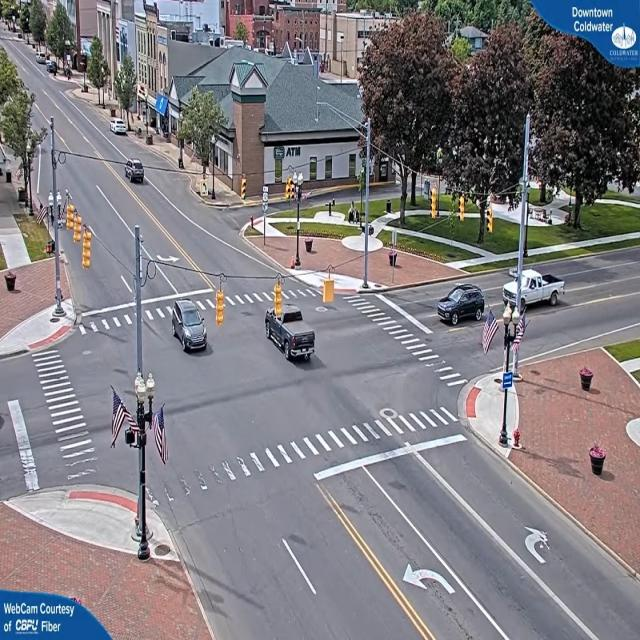car: (265, 307, 318, 363), (438, 282, 487, 326), (173, 302, 211, 352), (524, 270, 564, 312), (124, 162, 147, 185), (112, 121, 130, 138)
